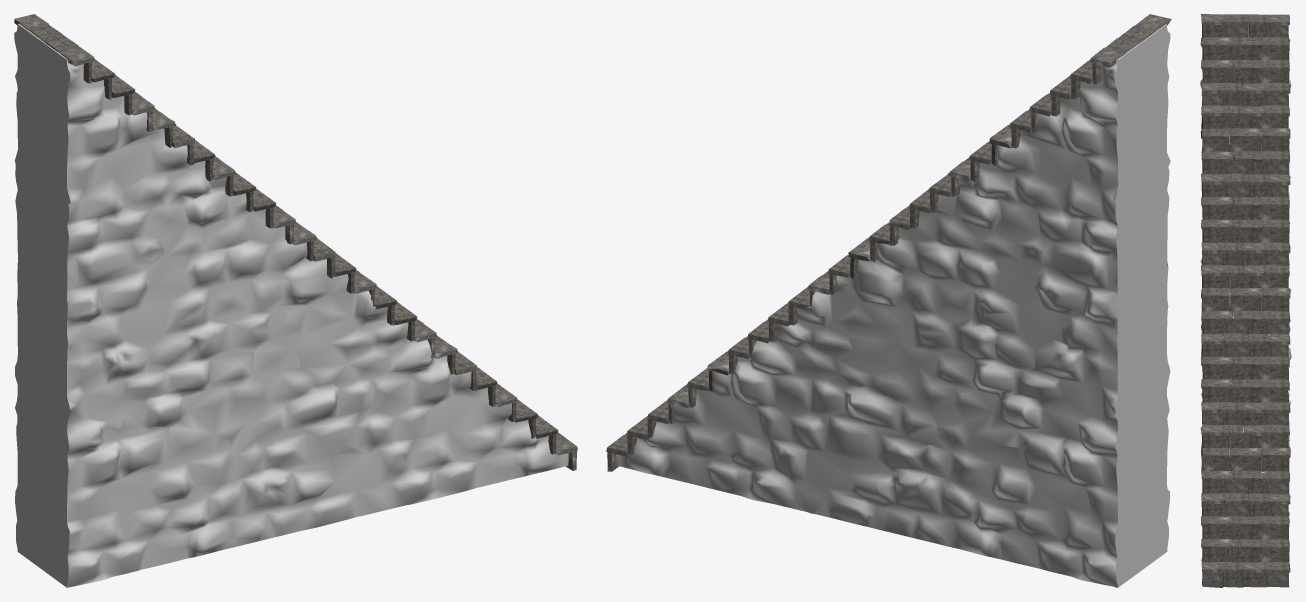
File: SM_Stairs_5M.fbx
3 renders of one model, left to right at view 1: azimuth 30°, elevation 25°; view 2: azimuth 150°, elevation 25°; view 3: azimuth 270°, elevation 25°, orthographic. The views are drawn at different scales.
Visible parts, largest first — view 1: SM_Stairs_5M_LOD0; view 2: SM_Stairs_5M_LOD0; view 3: SM_Stairs_5M_LOD0.
Part boxes in pixels (x1,y1,x2,y2): SM_Stairs_5M_LOD0: [14, 14, 577, 587]; SM_Stairs_5M_LOD0: [606, 14, 1171, 587]; SM_Stairs_5M_LOD0: [1200, 14, 1291, 587].
Bounding box in the file's own units: 502 × 107 × 505.
